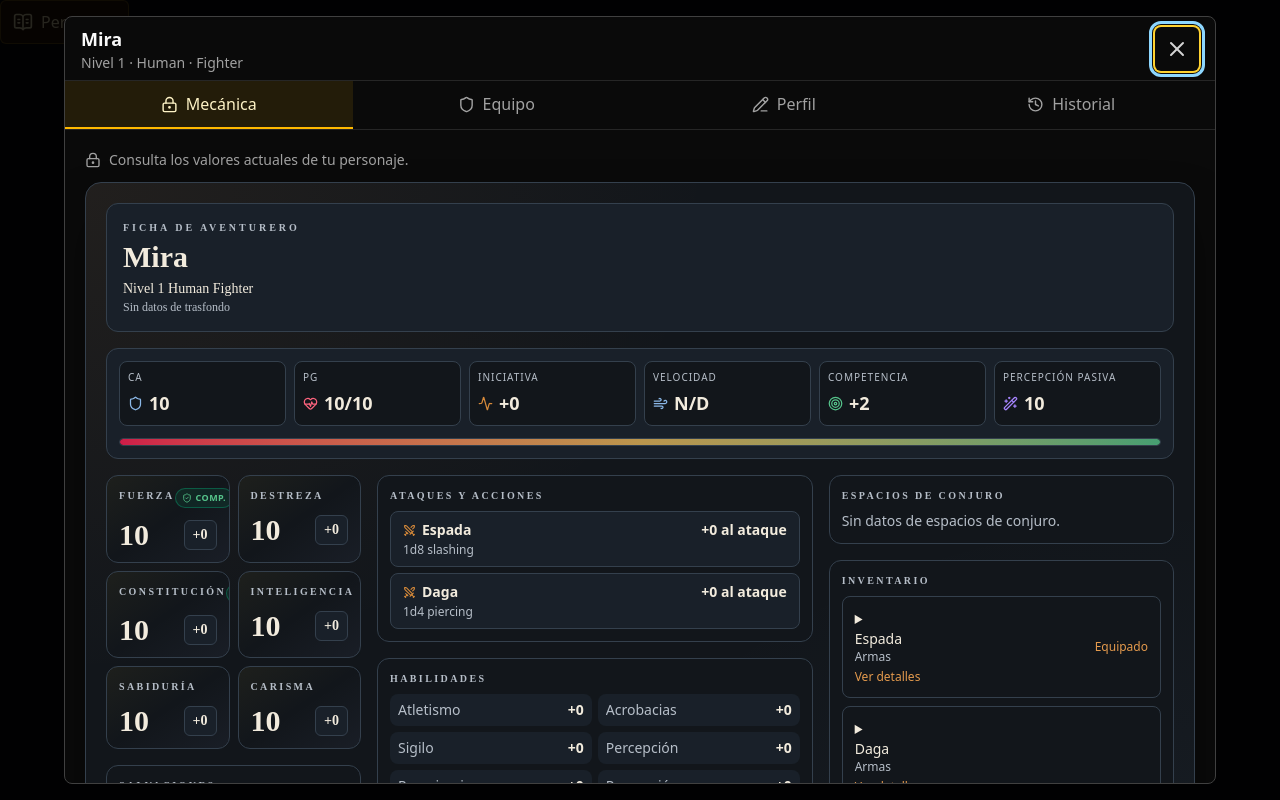
Scenario: equipment sheet › opens from the mobile navigation event and shows the four persisted slots
Click the button "Equipo".
click(496, 105)  # box [352,81,640,129]
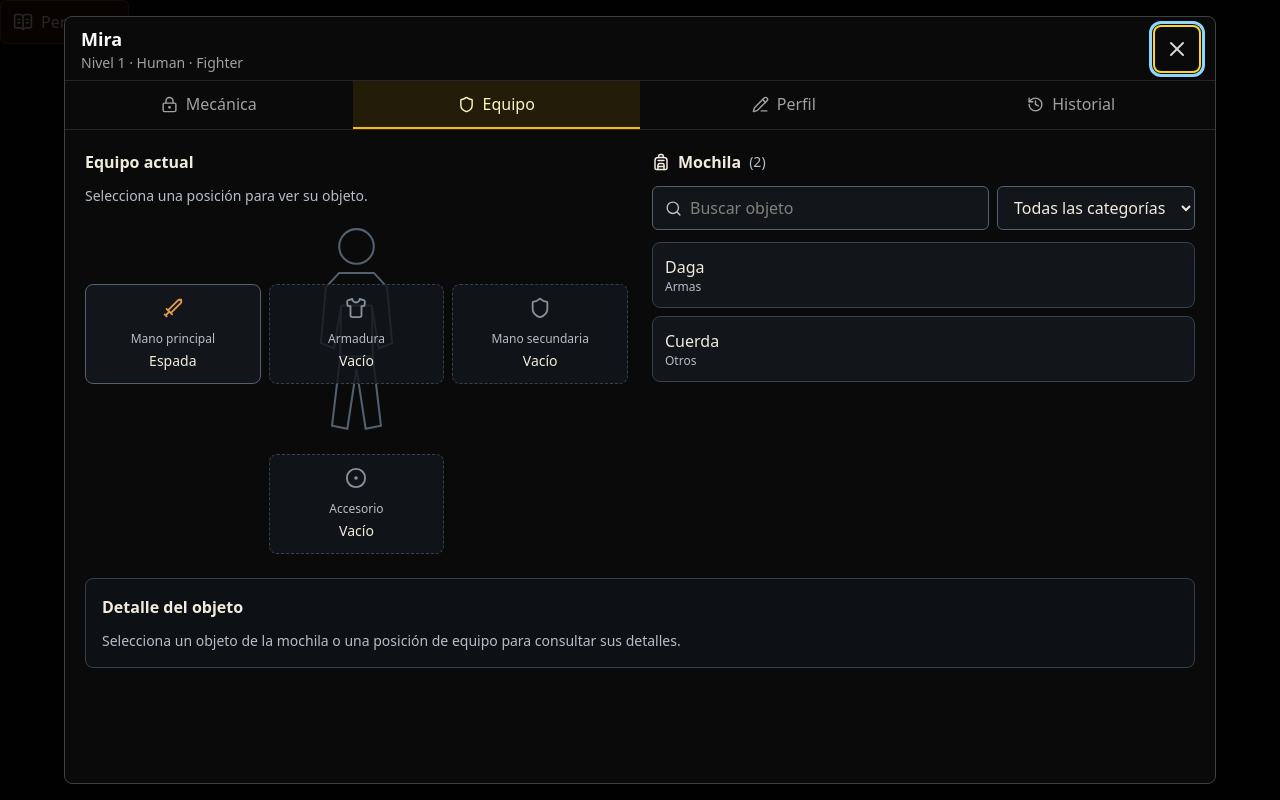
expect the button with aria-label "Mano principal: Espada" is shown: met, box [85,284,261,384]
expect the button with aria-label "Mano secundaria: Vacío" is shown: met, box [452,284,628,384]
expect the button with aria-label "Armadura: Vacío" is shown: met, box [269,284,444,384]
Click the button with aria-label "Accesorio: Vacío".
click(357, 504)  # box [269,454,444,554]
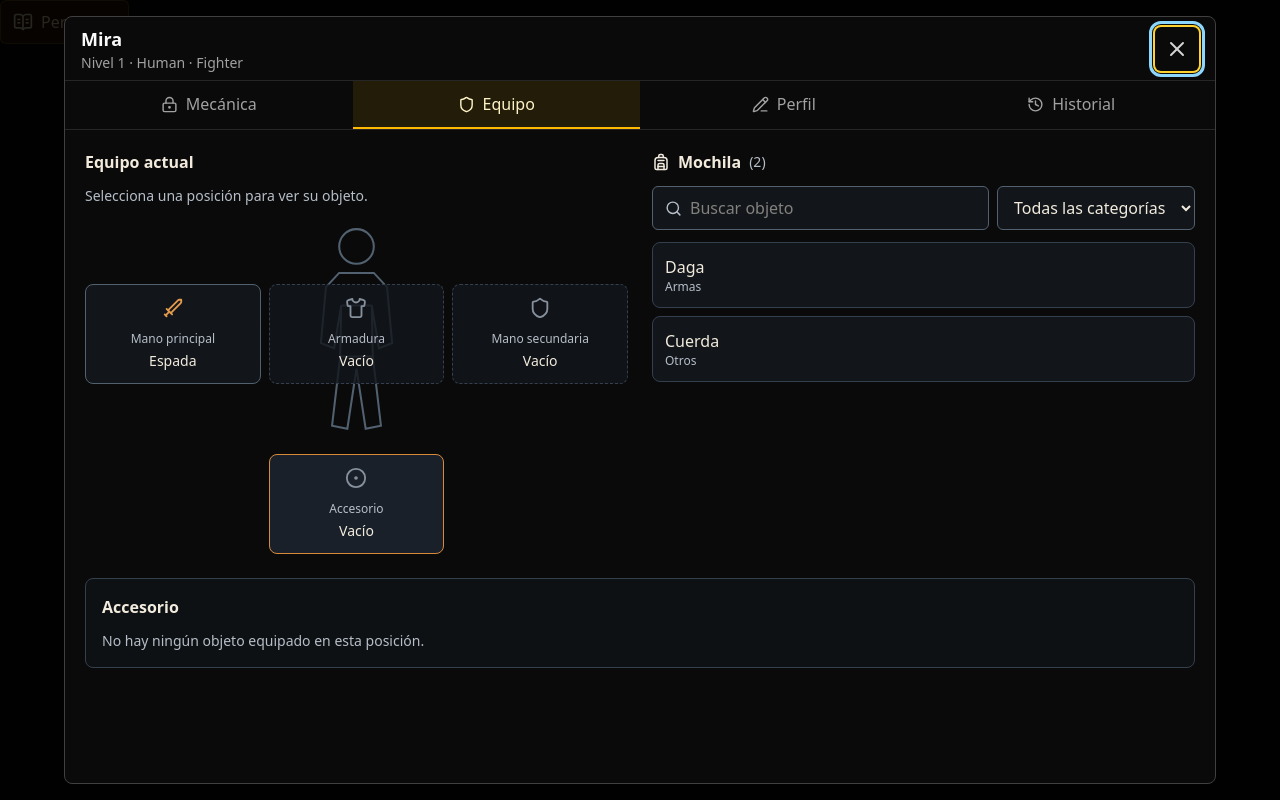
expect the text "No hay ningún objeto equipado en esta posición." is shown: met, box [102,631,424,650]
